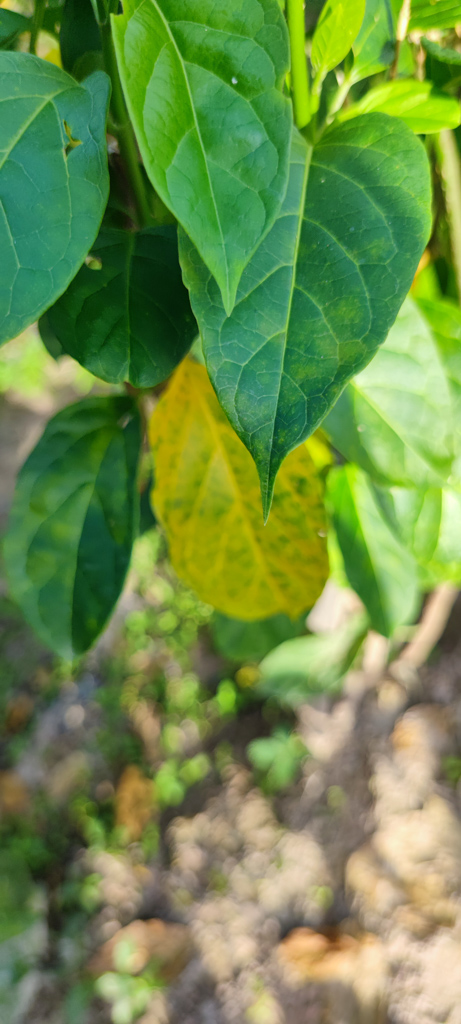Pepper yellow leaf: (144, 356, 335, 636)
